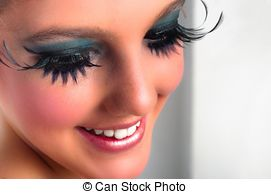face: (1, 1, 180, 180)
